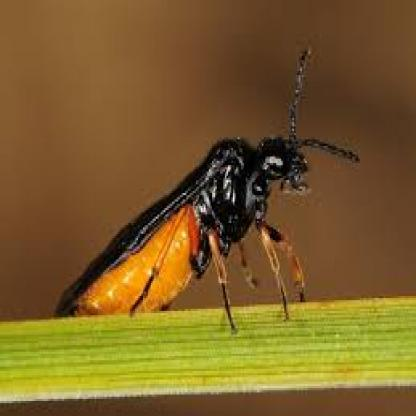sawfly: (50, 29, 362, 340)
